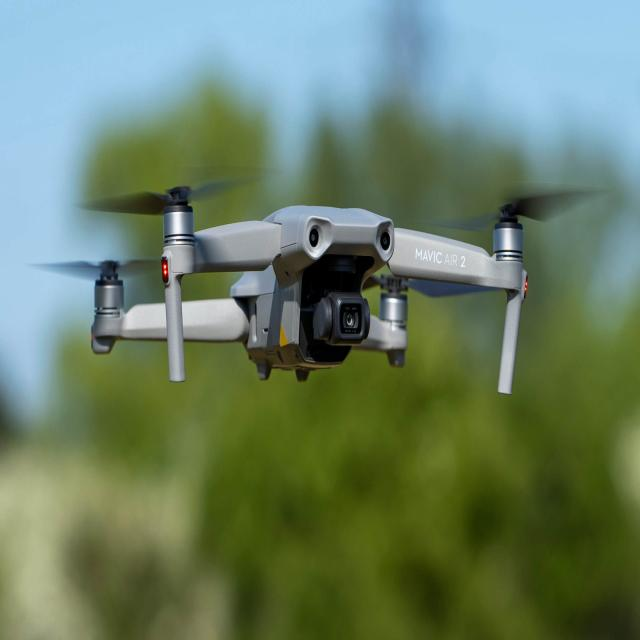drone: (70, 163, 582, 433)
